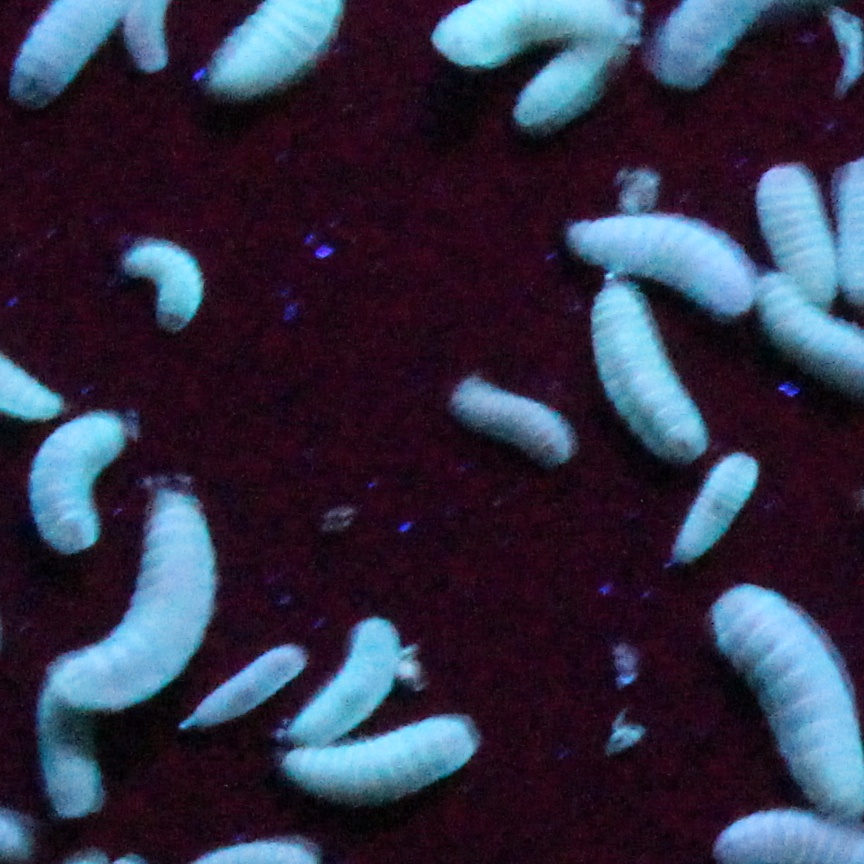larve: (55, 491, 213, 703), (585, 283, 710, 454), (563, 211, 747, 312), (283, 619, 399, 744), (282, 723, 470, 799), (178, 640, 308, 729), (453, 379, 575, 470), (755, 167, 837, 298), (45, 415, 123, 545), (675, 455, 759, 564), (516, 49, 622, 130), (43, 698, 111, 815), (123, 235, 201, 334)
